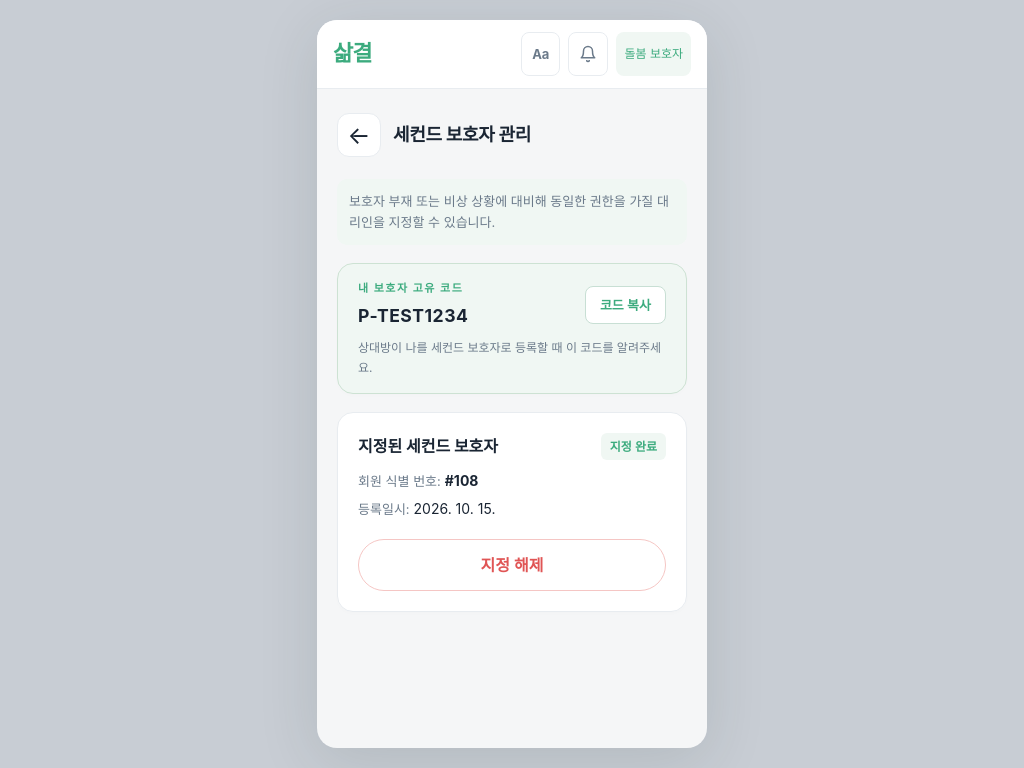
Test: SecondaryGuardianPage › 지정된 세컨드 보호자가 있으면 정보를 표시하고 지정 해제를 진행할 수 있다
The width and height of the screenshot is (1024, 768).
Expected: the heading "지정된 세컨드 보호자" is shown, [358,434,498,458]
Expected: the text "지정 완료" is shown, [601,433,666,460]
Step 1. Click the button "지정 해제" → (512, 565), box [358,539,666,591]
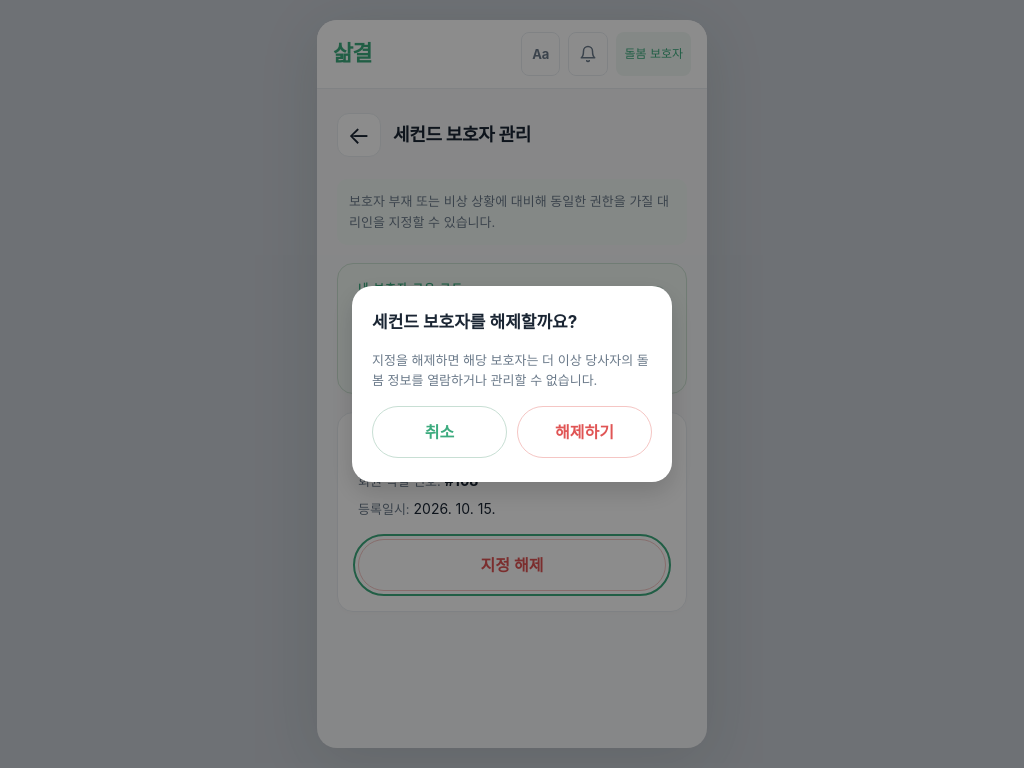
Result: the dialog is shown
Result: the heading "세컨드 보호자를 해제할까요?" is shown at [372,312,577,332]
Step 2. Click the button "해제하기" → (584, 432), box [517,406,652,458]
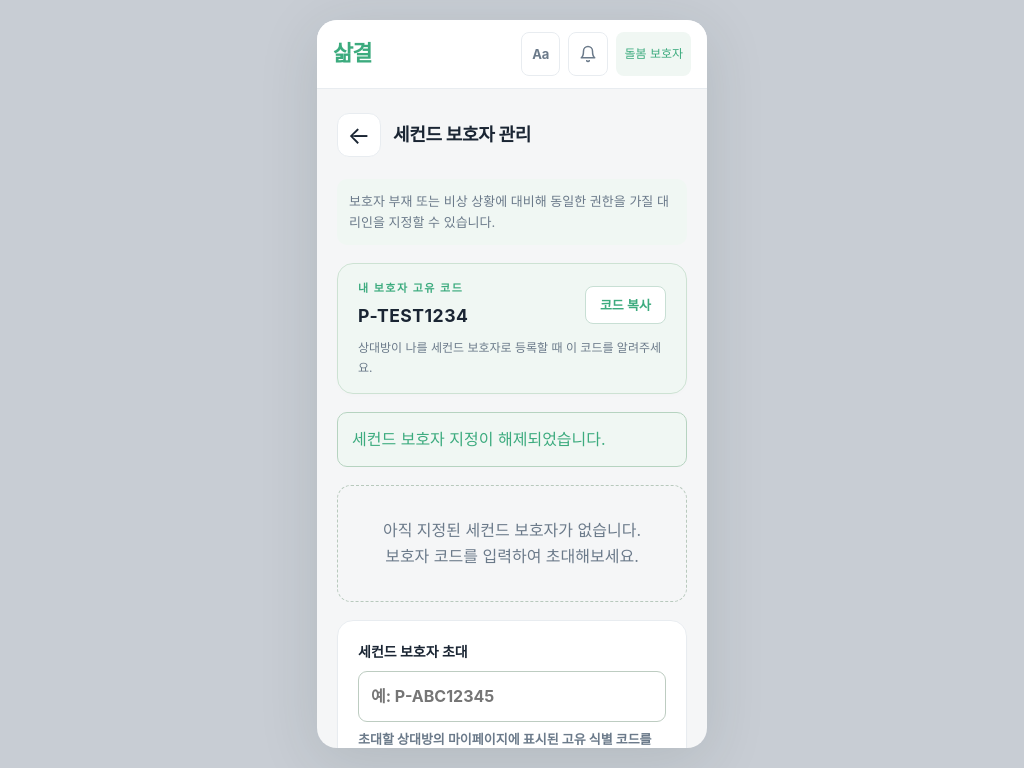
Result: the message reads "세컨드 보호자 지정이 해제되었습니다." at [352,429,606,449]
